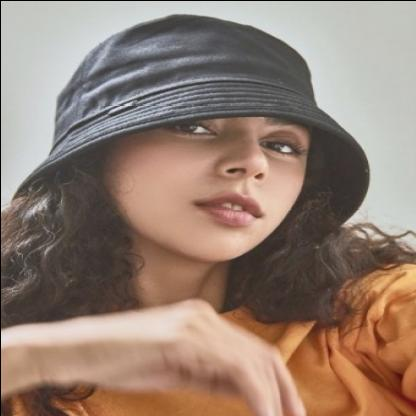hat: (12, 12, 376, 255)
